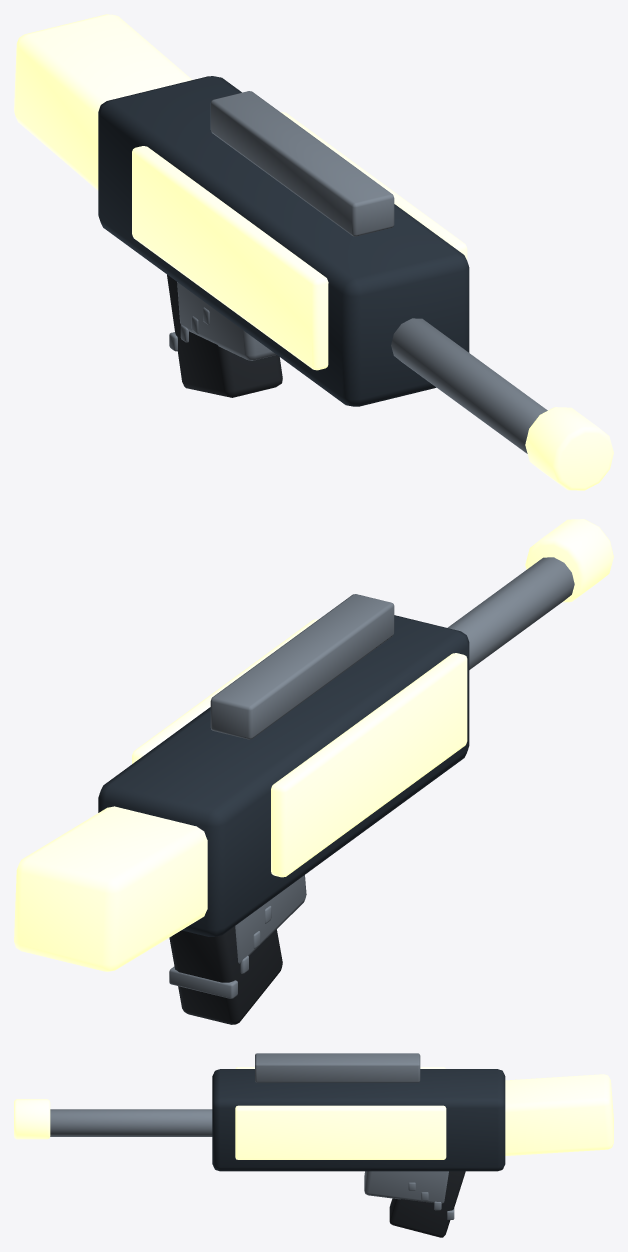
The model's file is Raider_NJ5SMG.fbx.
3 views of the same model, one above another, from view 1: azimuth 30°, elevation 25°; view 2: azimuth 150°, elevation 25°; view 3: azimuth 270°, elevation 25° (orthographic). The views are drawn at different scales.
Parts seen in each view (by area): view 1: Receiver.011, SideArmorLeft.005, Stock.005, TopRail.011, Barrel_00.005, MuzzleBrake.005, Grip.011, CompactMagazine.002, SideArmorRight.005; view 2: Receiver.011, Stock.005, SideArmorLeft.005, TopRail.011, Grip.011, Barrel_00.005, MuzzleBrake.005, CompactMagazine.002, SideArmorRight.005, GripRib_03.011; view 3: Receiver.011, SideArmorRight.005, Stock.005, TopRail.011, Barrel_00.005, CompactMagazine.002, Grip.011, MuzzleBrake.005.
Part boxes in pixels (<box>): Receiver.011: <box>98,76,469,406</box>; SideArmorLeft.005: <box>132,146,328,370</box>; Stock.005: <box>14,14,192,190</box>; TopRail.011: <box>210,91,394,236</box>; Barrel_00.005: <box>391,318,547,453</box>; MuzzleBrake.005: <box>525,407,613,490</box>; Grip.011: <box>167,274,282,397</box>; CompactMagazine.002: <box>177,282,276,360</box>; SideArmorRight.005: <box>281,112,467,260</box>; Receiver.011: <box>98,615,469,936</box>; Stock.005: <box>14,806,207,971</box>; SideArmorLeft.005: <box>271,653,467,877</box>; TopRail.011: <box>210,594,394,739</box>; Grip.011: <box>169,926,282,1024</box>; Barrel_00.005: <box>447,557,574,669</box>; MuzzleBrake.005: <box>525,519,613,602</box>; CompactMagazine.002: <box>235,875,306,963</box>; SideArmorRight.005: <box>132,619,318,763</box>; GripRib_03.011: <box>169,966,237,998</box>; Receiver.011: <box>212,1069,505,1171</box>; SideArmorRight.005: <box>235,1105,446,1159</box>; Stock.005: <box>505,1074,613,1155</box>; TopRail.011: <box>255,1053,420,1082</box>; Barrel_00.005: <box>50,1109,212,1136</box>; CompactMagazine.002: <box>364,1171,448,1203</box>; Grip.011: <box>389,1171,465,1237</box>; MuzzleBrake.005: <box>14,1099,50,1139</box>.
Size of the model in its own units: 96 by 179 by 563.
